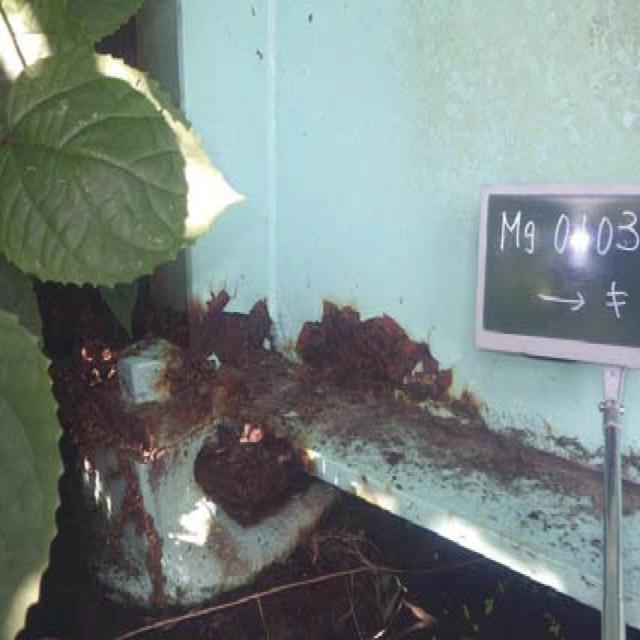corrosion: (60, 281, 474, 533)
